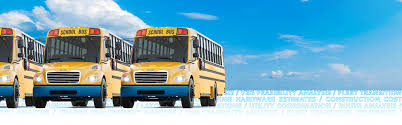bus: (118, 26, 227, 107), (33, 25, 132, 107), (1, 26, 44, 109)
